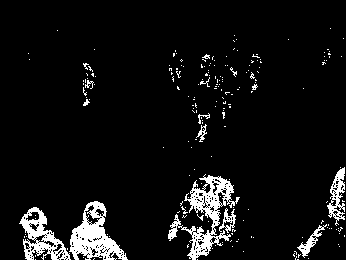person: (294, 167, 346, 260), (69, 201, 125, 260), (20, 207, 70, 260)
